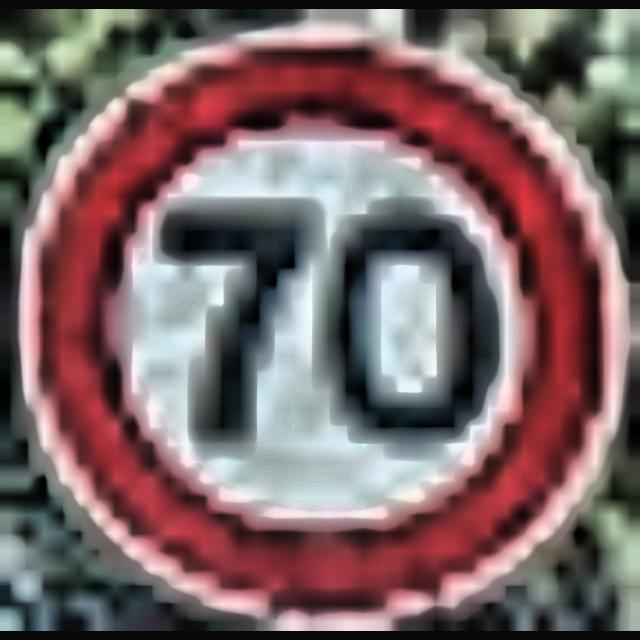speed_70: (0, 9, 622, 613)
